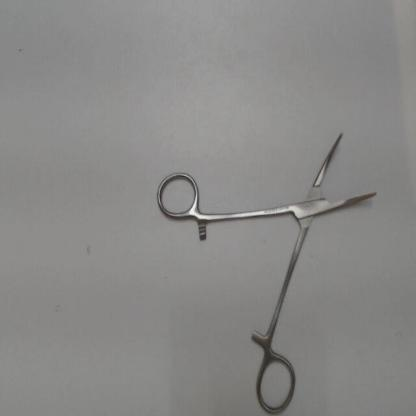Crile Artery Forceps: (153, 118, 384, 412)
